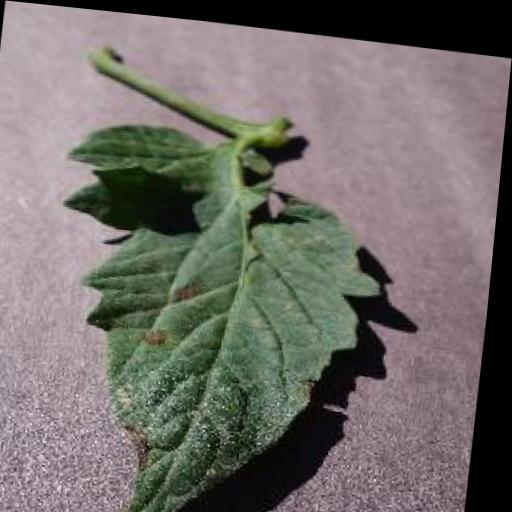Early Blight: (34, 112, 396, 512)
